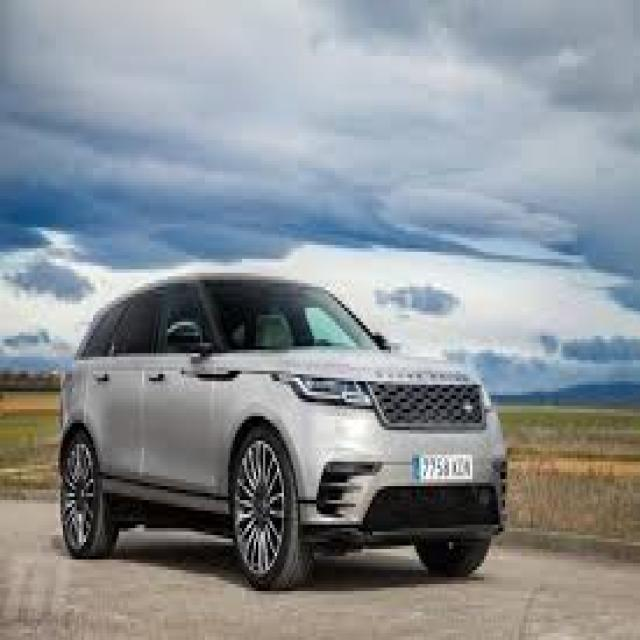SUV: (61, 262, 510, 592)
